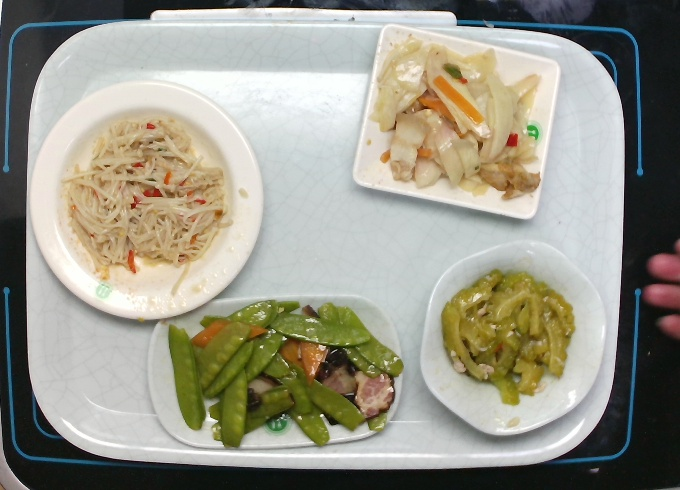WCQzf-Bai_Se_Si_Fang_Die: (347, 21, 563, 218)
WCQzf-Hua_Duo_Wan: (416, 238, 607, 440)
WCQzf-Kuan_Bian_Yuan_Die: (27, 79, 265, 320)
WCQzf-Tuo_Yuan_Pan: (145, 290, 399, 449)
